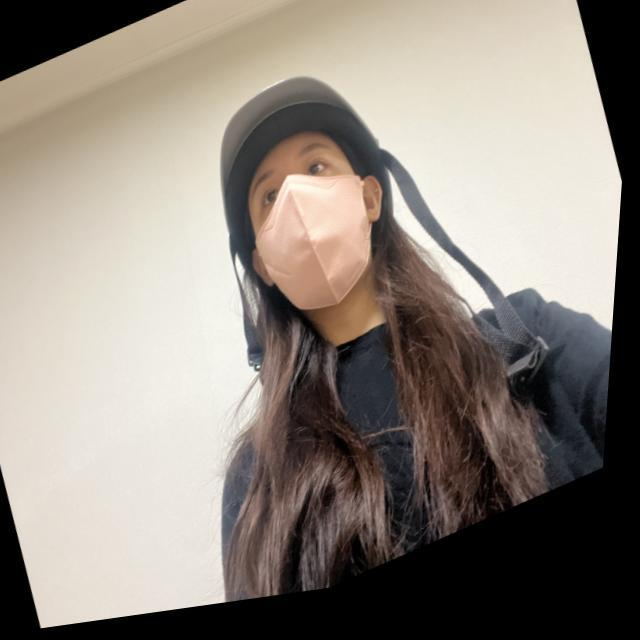Helmet: (210, 62, 414, 341)
